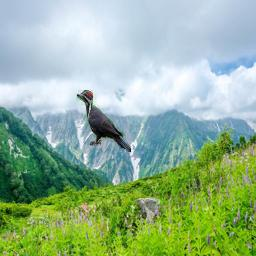Woodpecker: (76, 90, 131, 152)
